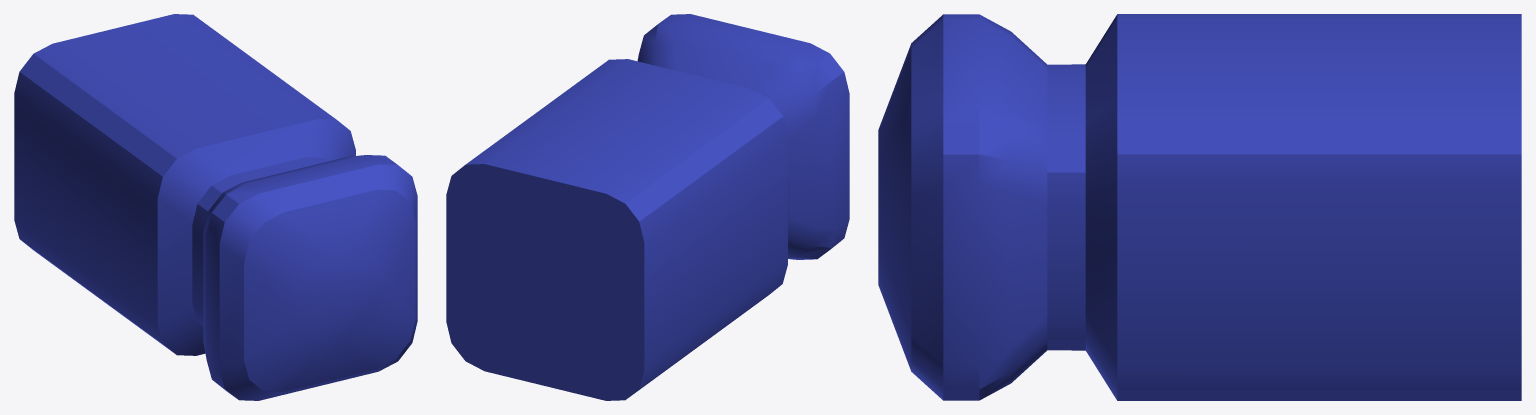
The model's file is wallBase.fbx.
3 renders of one model, left to right at view 1: azimuth 30°, elevation 25°; view 2: azimuth 150°, elevation 25°; view 3: azimuth 270°, elevation 25°, orthographic. The views are drawn at different scales.
Parts seen in each view (by area): view 1: Cube; view 2: Cube; view 3: Cube.
Boxes of the visible parts, x1=… form: Cube: x1=14, y1=14, x2=417, y2=400; Cube: x1=446, y1=14, x2=849, y2=400; Cube: x1=878, y1=14, x2=1521, y2=400.
Size of the model in its own units: 60.06 by 60.06 by 120.
